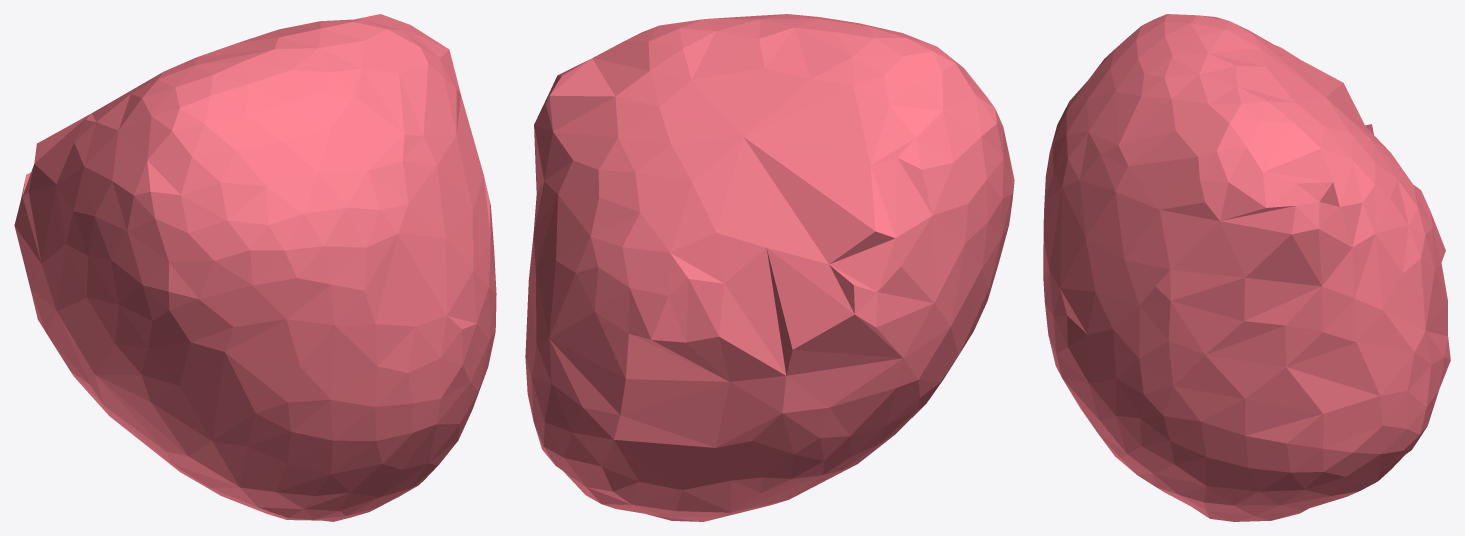
File: Model_10435_LH__Red_nucleus_(R).obj
3 renders of one model, left to right at view 1: azimuth 30°, elevation 25°; view 2: azimuth 150°, elevation 25°; view 3: azimuth 270°, elevation 25°, orthographic. The views are drawn at different scales.
Size of the model in its own units: 0.9037 by 1.05 by 0.9061.
